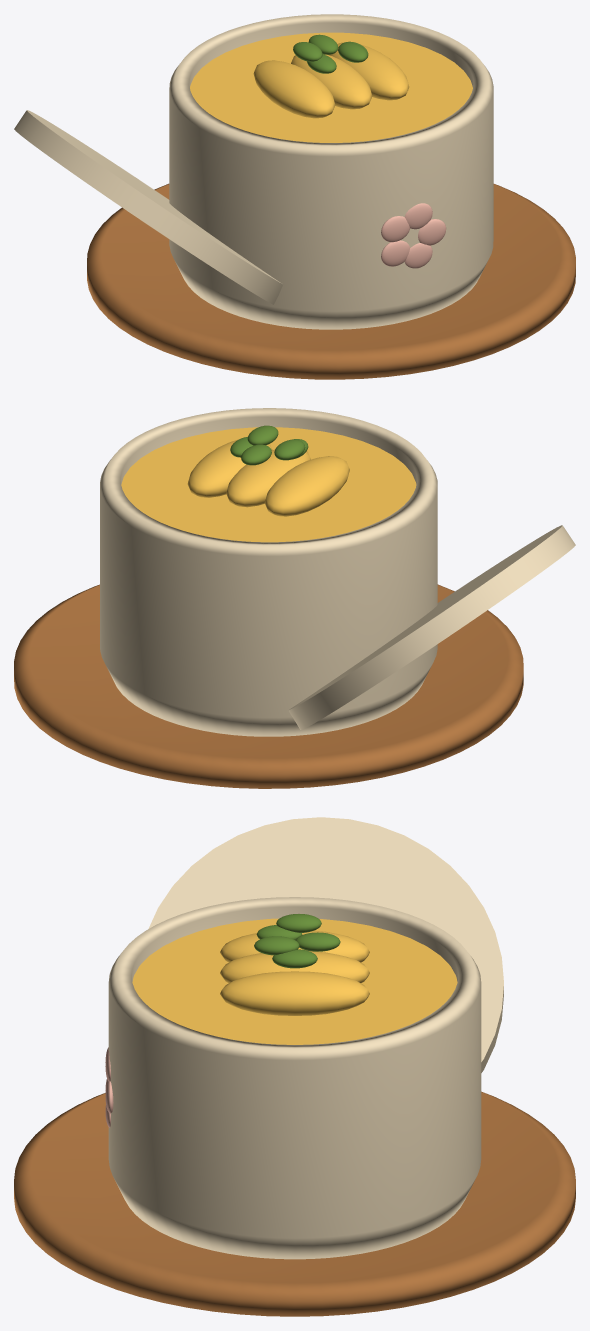
File: 58-uni-custard.glb
The picture shows the model from 3 angles, top to bottom: view 1: azimuth 30°, elevation 25°; view 2: azimuth 150°, elevation 25°; view 3: azimuth 270°, elevation 25°; orthographic projection. The views are drawn at different scales.
Visible parts, largest first — view 1: 성게알 차완무시; view 2: 성게알 차완무시; view 3: 성게알 차완무시.
Part boxes in pixels (x1,y1,x2,y2): 성게알 차완무시: [14, 14, 575, 379]; 성게알 차완무시: [14, 408, 575, 788]; 성게알 차완무시: [14, 817, 575, 1316].
Bounding box in the file's own units: 1.99 × 0.971 × 1.72.
